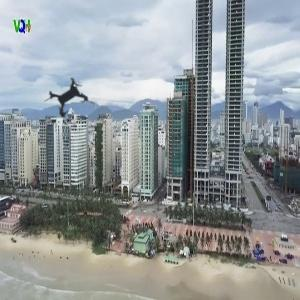drone: (29, 58, 114, 143)
